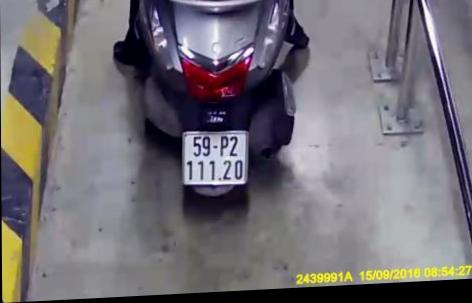License_Plate: (175, 126, 255, 195)
